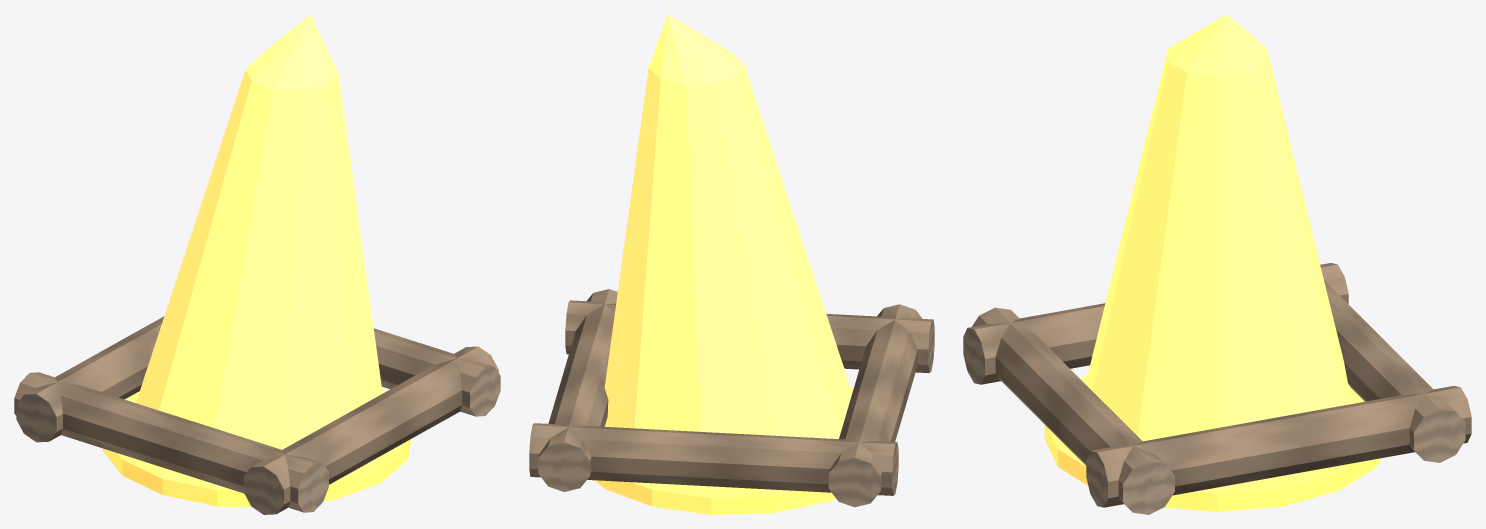
The model's file is campfire.glb.
3 views of the same model, side by side, from view 1: azimuth 30°, elevation 25°; view 2: azimuth 150°, elevation 25°; view 3: azimuth 270°, elevation 25° (orthographic). The views are drawn at different scales.
Visible parts, largest first — view 1: Campfire_Flame_Outer, Campfire_Log_3, Campfire_Log_4, Campfire_Log_2, Campfire_Base, Campfire_Log_1; view 2: Campfire_Flame_Outer, Campfire_Log_2, Campfire_Log_3, Campfire_Log_1, Campfire_Base, Campfire_Log_4; view 3: Campfire_Flame_Outer, Campfire_Log_1, Campfire_Log_4, Campfire_Log_2, Campfire_Base, Campfire_Log_3.
Part boxes in pixels (x1,y1,x2,y2): Campfire_Flame_Outer: (136,14,382,449); Campfire_Log_3: (14,372,328,512); Campfire_Log_4: (243,346,498,514); Campfire_Log_2: (16,316,164,442); Campfire_Base: (103,389,410,507); Campfire_Log_1: (373,328,500,416); Campfire_Flame_Outer: (604,14,852,438); Campfire_Log_2: (529,423,898,495); Campfire_Log_3: (828,304,922,507); Campfire_Log_1: (538,289,617,491); Campfire_Base: (595,387,853,514); Campfire_Log_4: (565,300,934,373); Campfire_Flame_Outer: (1085,14,1354,441); Campfire_Log_1: (1086,386,1471,507); Campfire_Log_4: (972,307,1174,514); Campfire_Log_2: (1324,280,1465,462); Campfire_Base: (1044,374,1380,511); Campfire_Log_3: (963,263,1348,384).
Size of the model in its own units: 1.03 by 1.02 by 1.03.
Materials: 6 (2 with a texture image).
